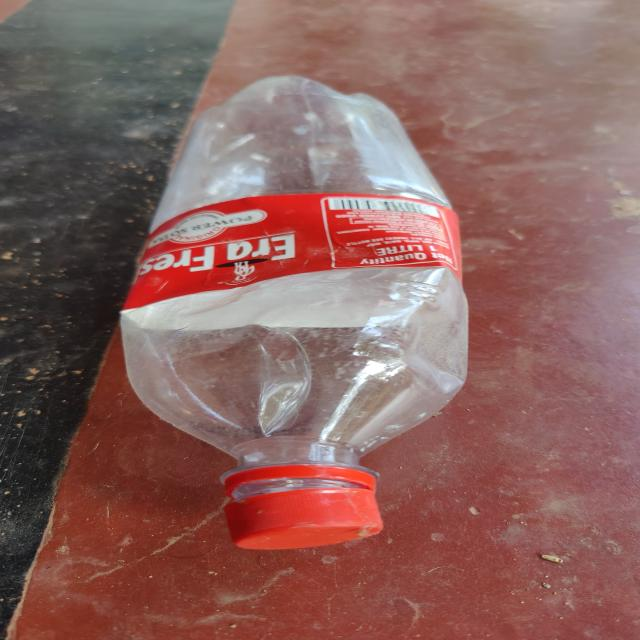plastic: (122, 76, 472, 554)
